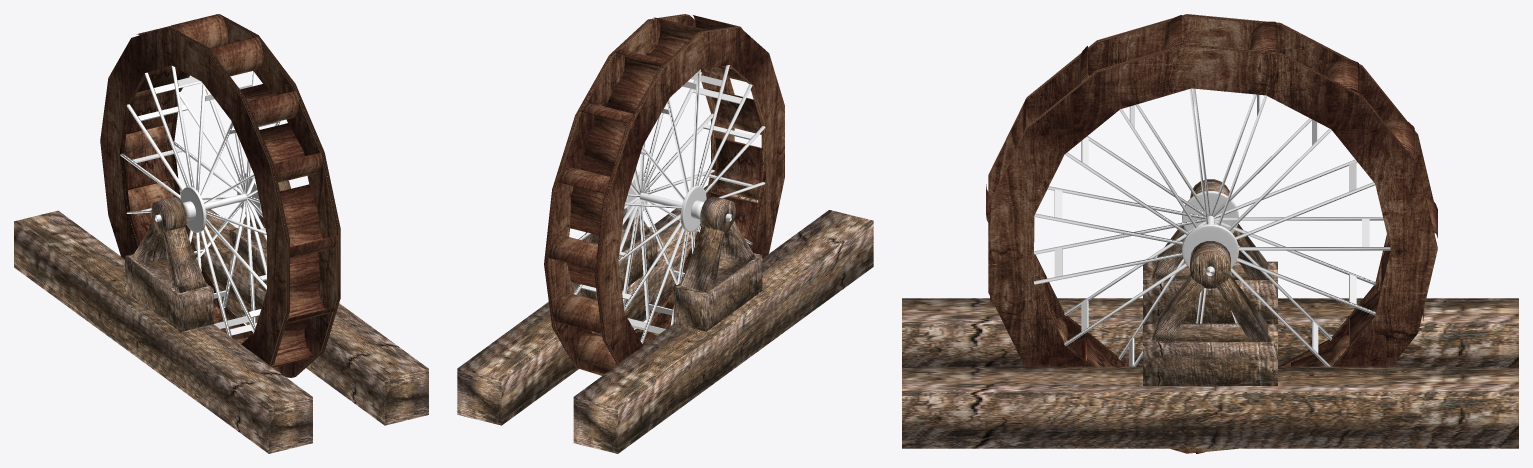
File: waterwheel.glb
3 renders of one model, left to right at view 1: azimuth 30°, elevation 25°; view 2: azimuth 150°, elevation 25°; view 3: azimuth 270°, elevation 25°, orthographic. The views are drawn at different scales.
Parts seen in each view (by area): view 1: Cube.002_6, Cylinder.015_22, Cylinder_1, Cube.003_24, Cylinder.001_21, Cube.014_3, Cylinder.004_25, Cylinder.003_26, Cylinder.021_5; view 2: Cube.002_6, Cylinder.015_22, Cylinder_1, Cube.003_24, Cylinder.001_21, Cube.014_3, Cylinder.004_25, Cylinder.003_26, Cylinder.021_5; view 3: Cube.003_24, Cylinder.001_21, Cube.002_6, Cube.014_3, Cylinder_1, Cylinder.003_26, Cylinder.015_22, Cylinder.004_25, Cylinder.021_5.
Boxes of the visible parts, x1,y1,x2,y2 form: Cube.002_6: (14,210,312,453); Cylinder.015_22: (124,14,337,373); Cylinder_1: (100,26,289,365); Cube.003_24: (179,187,428,425); Cylinder.001_21: (167,14,340,377); Cube.014_3: (120,65,280,336); Cylinder.004_25: (125,197,213,331); Cylinder.003_26: (229,180,290,292); Cylinder.021_5: (180,173,261,232); Cube.002_6: (573,210,873,453); Cylinder.015_22: (547,15,762,373); Cylinder_1: (594,26,784,364); Cube.003_24: (457,185,757,425); Cylinder.001_21: (544,14,734,375); Cube.014_3: (573,65,765,343); Cylinder.004_25: (673,196,762,331); Cylinder.003_26: (571,209,657,299); Cylinder.021_5: (625,172,706,232); Cube.003_24: (902,366,1518,448); Cylinder.001_21: (988,44,1437,453); Cube.002_6: (902,298,1518,366); Cube.014_3: (1034,88,1390,366); Cylinder_1: (988,14,1434,366); Cylinder.003_26: (1143,241,1277,385); Cylinder.015_22: (986,15,1437,453); Cylinder.004_25: (1143,179,1277,323); Cylinder.021_5: (1182,191,1238,268).
Size of what is drawn, in the model's own units: 0.9958 by 2.02 by 2.74.
Materials: 6 (4 with a texture image).
